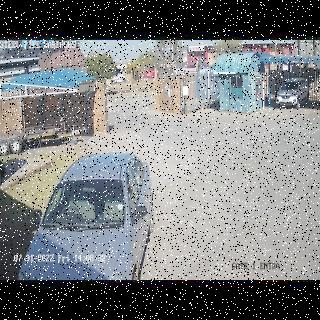car: (18, 152, 155, 280), (275, 78, 309, 108), (111, 76, 124, 83)
